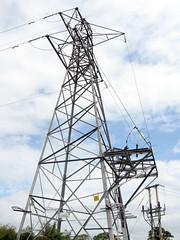power_tower: (16, 5, 168, 240)
